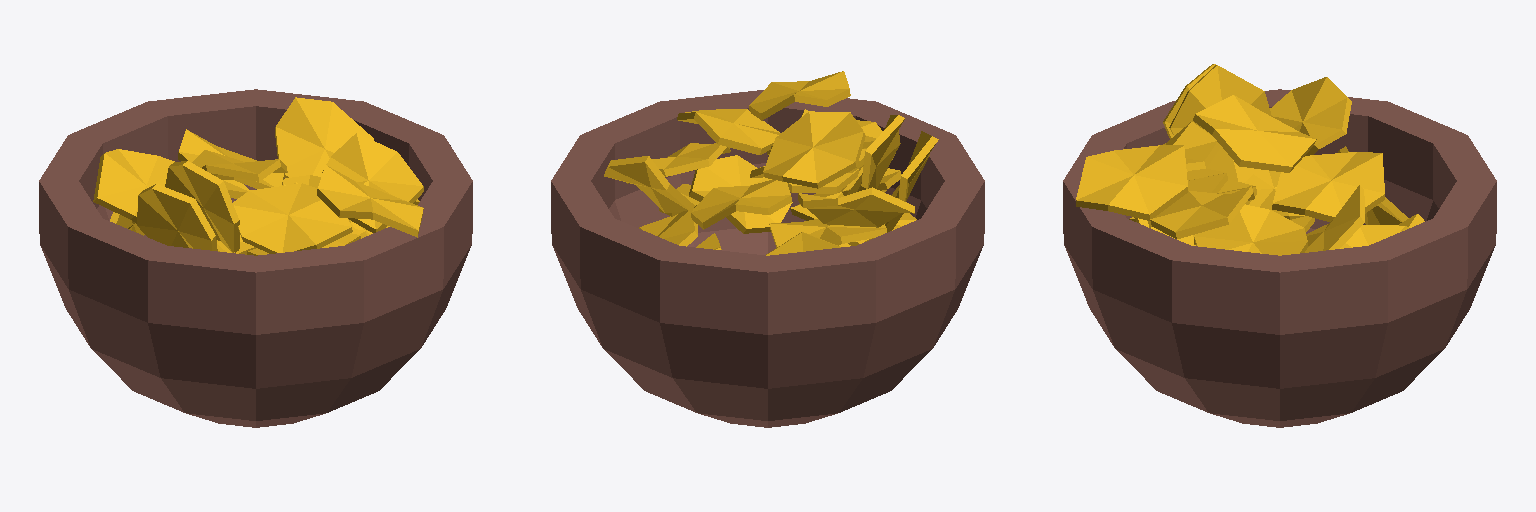
The picture shows the model from 3 angles: view 1: azimuth 30°, elevation 25°; view 2: azimuth 150°, elevation 25°; view 3: azimuth 270°, elevation 25°; orthographic projection.
Parts seen in each view (by area): view 1: Sphere_Mesh; view 2: Sphere_Mesh; view 3: Sphere_Mesh.
Part boxes in pixels (x1,y1,x2,y2): Sphere_Mesh: (39,89,472,427); Sphere_Mesh: (551,71,984,427); Sphere_Mesh: (1063,64,1496,427).
Bounding box in the file's own units: 0.212 × 0.1536 × 0.212.
Materials: 1 (1 with a texture image).